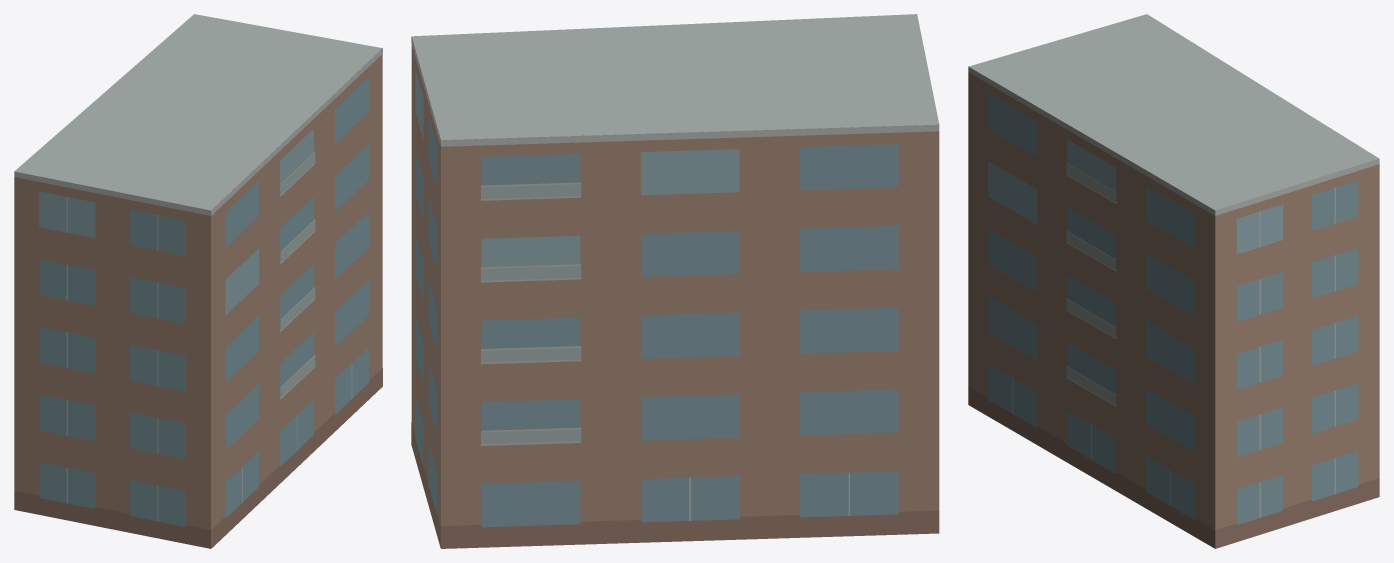
Rendered from survey-upis-32589170.glb.
3 views of the same model, side by side, from view 1: azimuth 30°, elevation 25°; view 2: azimuth 150°, elevation 25°; view 3: azimuth 270°, elevation 25° (orthographic). The views are drawn at different scales.
Parts seen in each view (by area): view 1: survey-upis-32589170.tmp; view 2: survey-upis-32589170.tmp; view 3: survey-upis-32589170.tmp.
Boxes of the visible parts, box(x1,y1,x2,y2) form: survey-upis-32589170.tmp: box(14, 14, 382, 548); survey-upis-32589170.tmp: box(411, 14, 939, 548); survey-upis-32589170.tmp: box(968, 14, 1379, 548).
Bounding box in the file's own units: 18.69 × 15 × 16.53.
